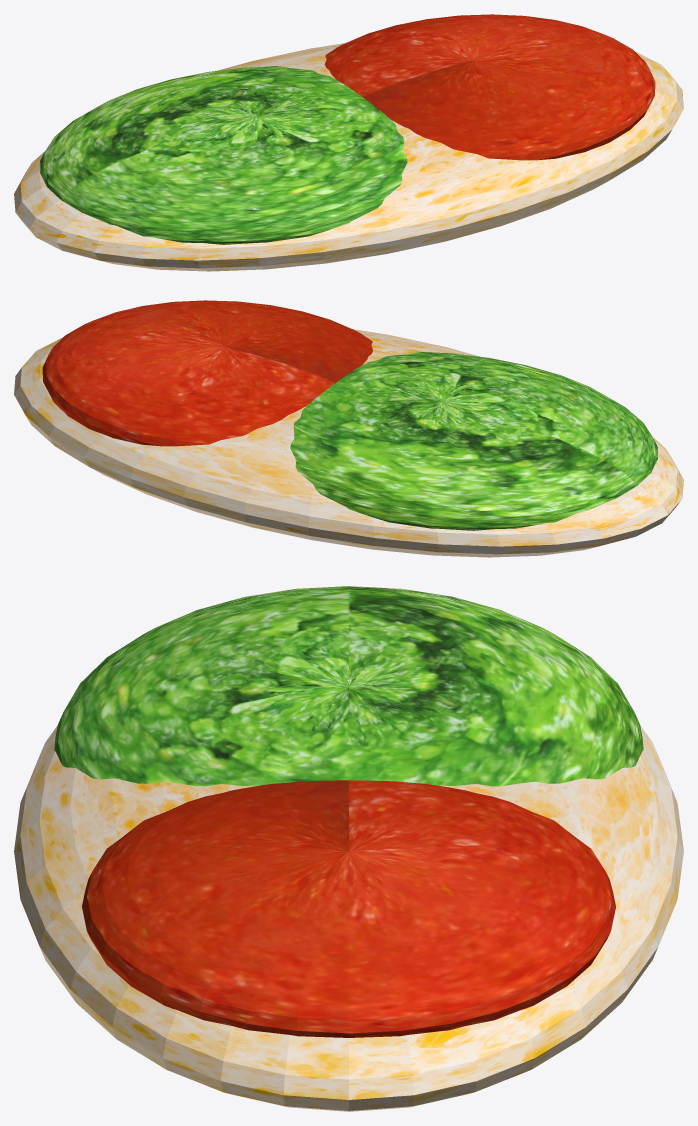
File: memela-bandera-base.glb
The picture shows the model from 3 angles, top to bottom: view 1: azimuth 30°, elevation 25°; view 2: azimuth 150°, elevation 25°; view 3: azimuth 270°, elevation 25°; orthographic projection. The views are drawn at different scales.
Parts seen in each view (by area): view 1: Sphere; view 2: Sphere; view 3: Sphere.
Part boxes in pixels (box(x1,y1,x2,y2)): Sphere: box(14, 14, 683, 271); Sphere: box(14, 300, 683, 557); Sphere: box(14, 586, 683, 1111).
Bounding box in the file's own units: 2 × 0.3315 × 1.14.
3 materials, 3 textured.
